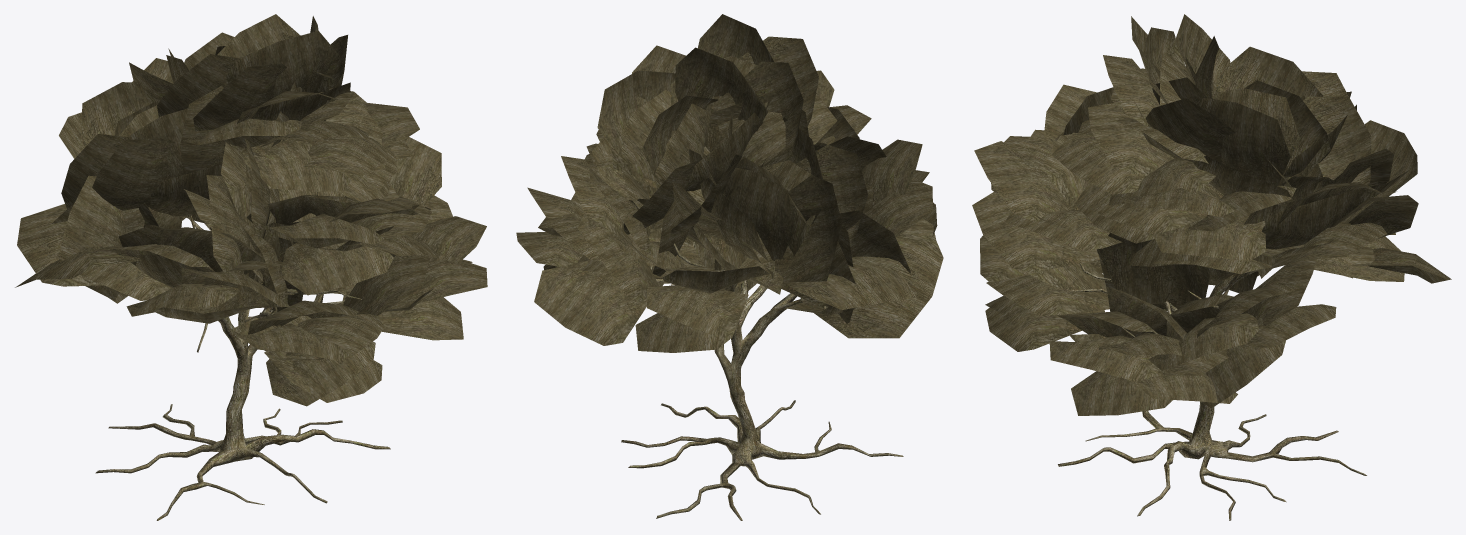
The model's file is Model_Tree_10.fbx.
3 views of the same model, side by side, from view 1: azimuth 30°, elevation 25°; view 2: azimuth 150°, elevation 25°; view 3: azimuth 270°, elevation 25° (orthographic). The views are drawn at different scales.
Visible parts, largest first — view 1: Tree_08; view 2: Tree_08; view 3: Tree_08.
Part boxes in pixels (x1=…): Tree_08: x1=15, y1=14, x2=487, y2=520; Tree_08: x1=516, y1=14, x2=943, y2=520; Tree_08: x1=972, y1=14, x2=1451, y2=520.
Bounding box in the file's own units: 715 × 724 × 694.
